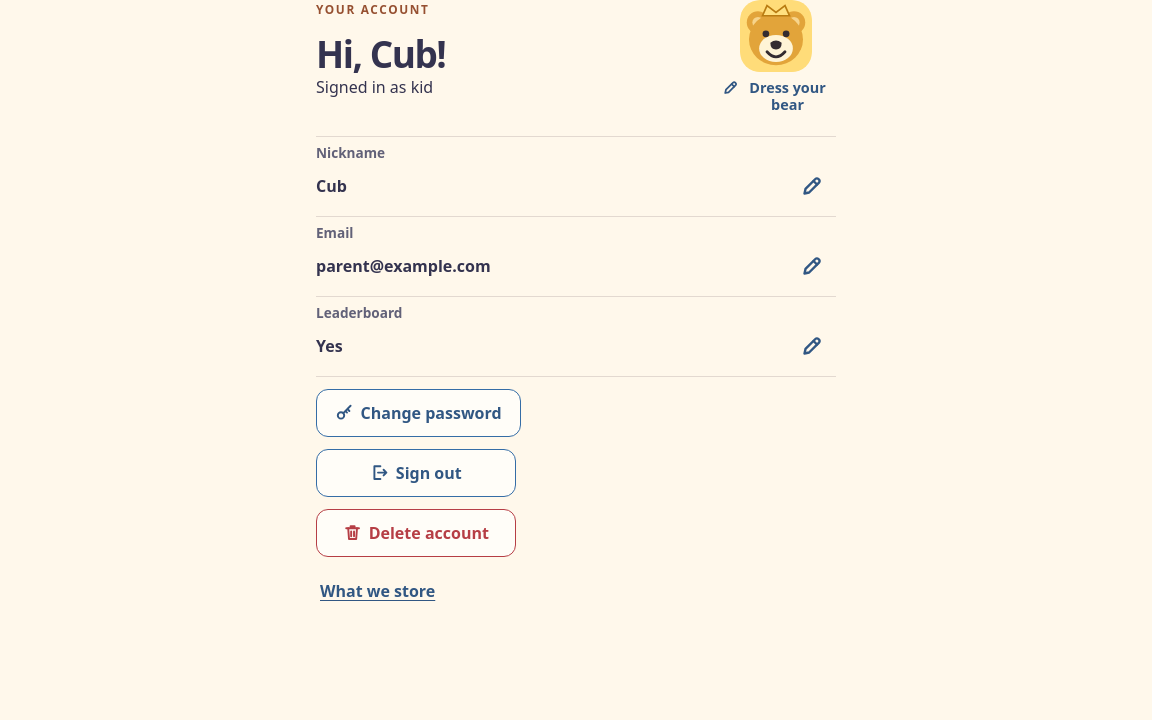
Test: SCRUM-281 edit windows › Cancel closes without saving and focus returns to the pencil
Click the button named "Change email" at (812, 266), box [788, 242, 836, 290]
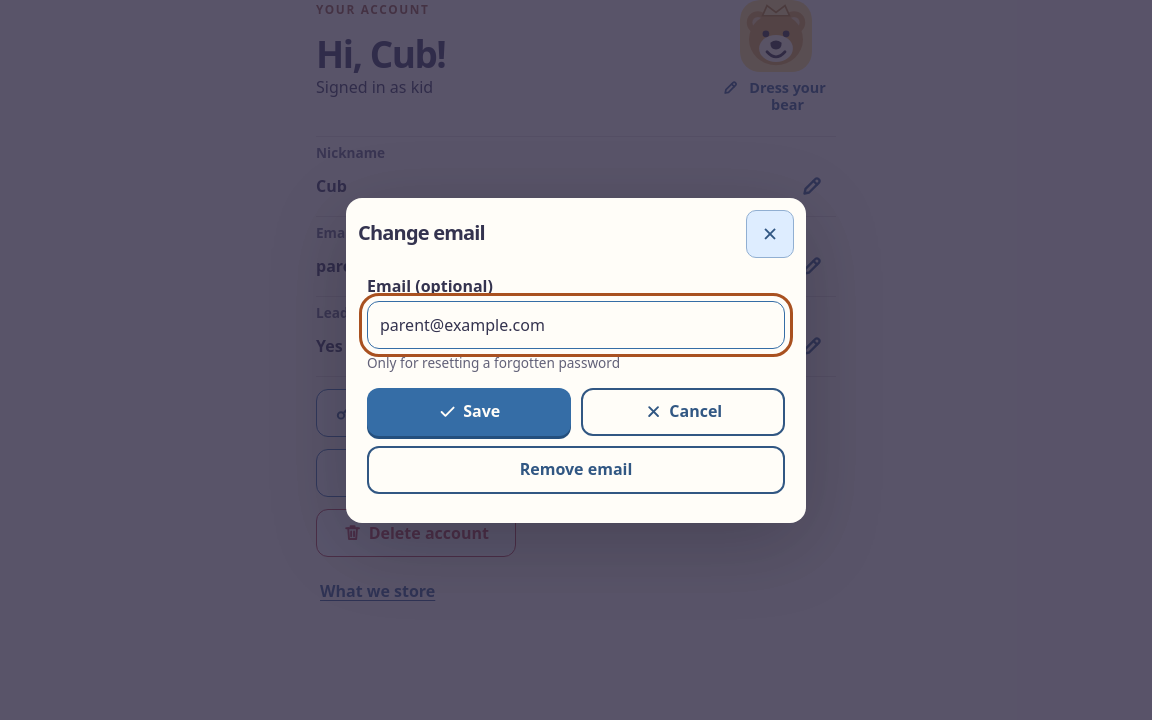
Replace the text in the field labelled "Email (optional)" with "new@example.com" at (576, 324), box [367, 300, 785, 348]
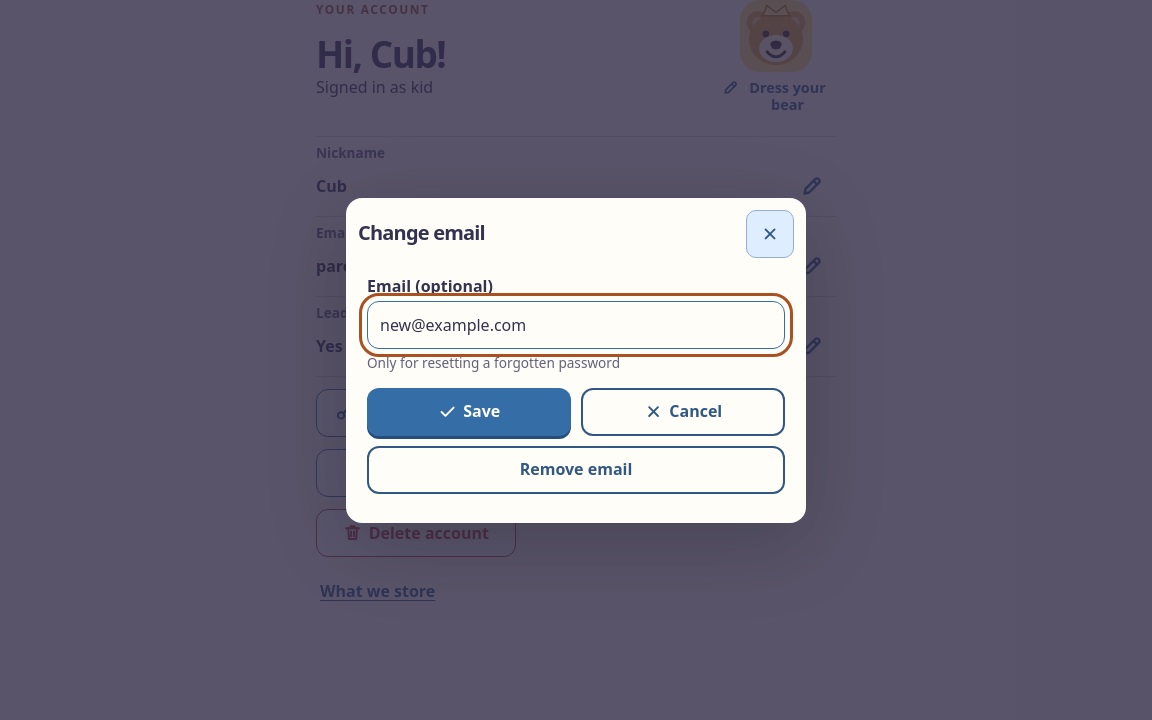
Click the button "Cancel" at (683, 412), box [581, 388, 785, 436]
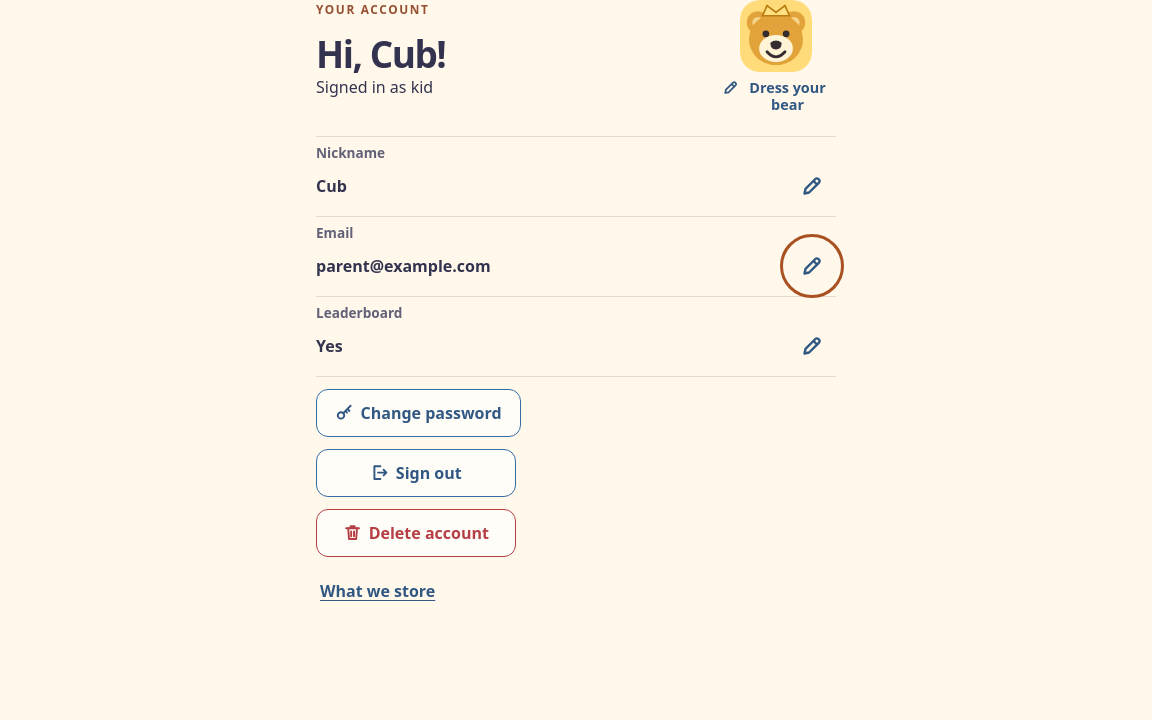
Check: the element named "Change email" shows "parent@example.com", box [316, 255, 491, 277]
Check: the dialog is gone
